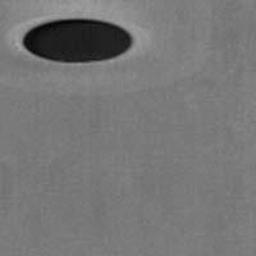Punching: (23, 18, 133, 64)
